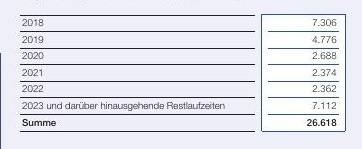table: (0, 0, 362, 149)
